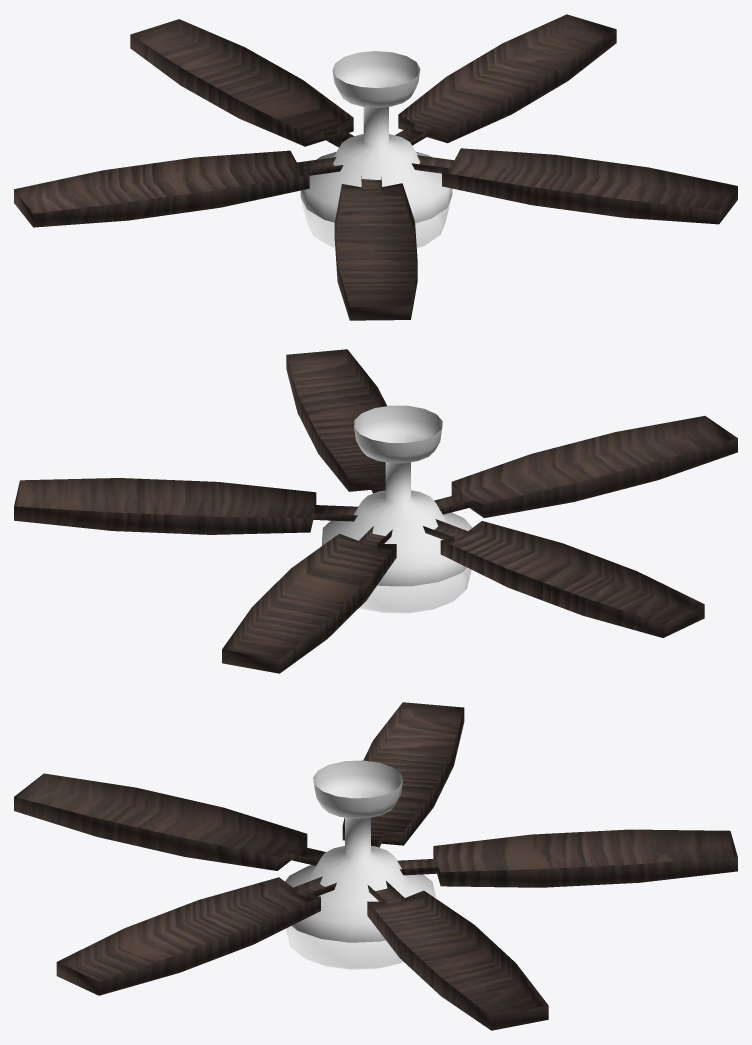
File: ceiling_fan.glb
3 views of the same model, one above another, from view 1: azimuth 30°, elevation 25°; view 2: azimuth 150°, elevation 25°; view 3: azimuth 270°, elevation 25° (orthographic). The views are drawn at different scales.
Parts seen in each view (by area): view 1: FanLight; view 2: FanLight; view 3: FanLight.
Part boxes in pixels (x1=…): FanLight: x1=14, y1=14, x2=737, y2=320; FanLight: x1=14, y1=349, x2=737, y2=673; FanLight: x1=14, y1=702, x2=737, y2=1030.
Size of the model in its own units: 1.27 by 0.3062 by 1.24.
Materials: 3 (1 with a texture image).
